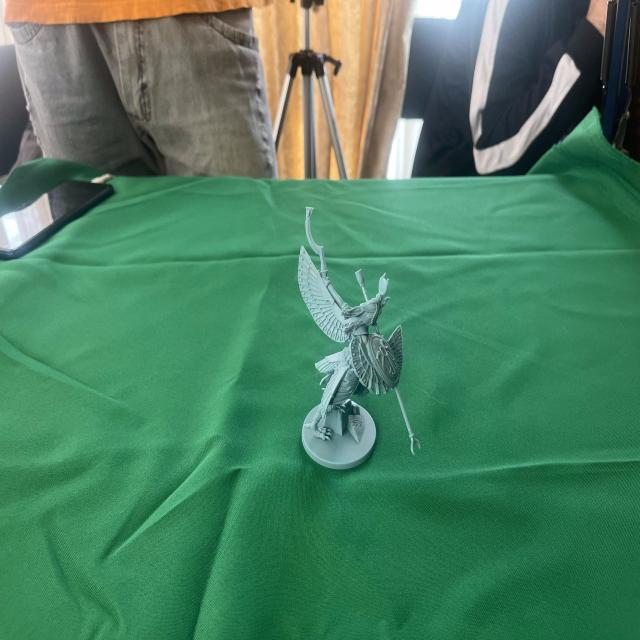isis: (288, 195, 433, 486)
